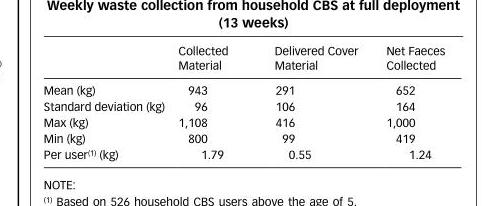table: (42, 43, 444, 160)
table column: (42, 43, 170, 160), (250, 43, 371, 160), (170, 43, 250, 160), (371, 43, 444, 160)
table column header: (42, 43, 444, 77)
table row: (42, 43, 444, 77), (42, 77, 444, 97), (42, 97, 444, 113), (42, 113, 444, 129), (42, 129, 444, 145), (42, 145, 444, 160)
